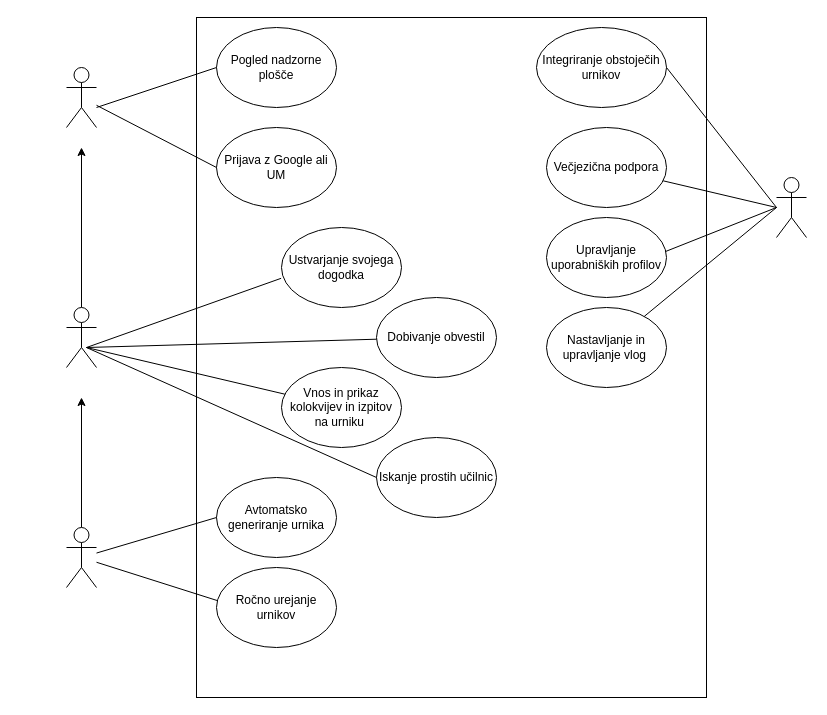
Some shapes in this 827 by 715 pixel diagram are drawn without their labels. The shapes that lost their labels are listed below. From the top down, each one's box as (x1, y1, x2, y2) in pixels, then its label:
(66, 66, 96, 128): Ne registriran uporabnik
(776, 176, 806, 238): Sistem
(66, 306, 96, 368): Registriran Uporabnik
(66, 526, 96, 588): Referat
